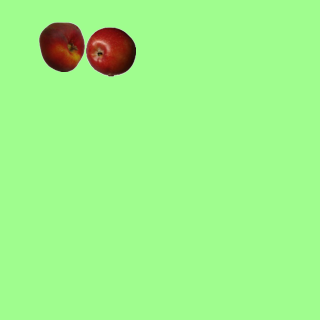Apple Braeburn: (85, 26, 135, 76)
Nectarine Flat: (36, 21, 86, 71)
